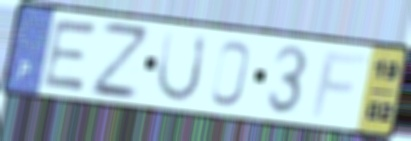0: (210, 39, 253, 109)
3: (265, 43, 313, 117)
E: (39, 16, 103, 95)
F: (308, 50, 370, 120)
U: (153, 28, 211, 105)
Z: (88, 17, 151, 102)
